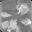people: (16, 4, 29, 16), (9, 18, 18, 30), (20, 18, 32, 26), (2, 20, 10, 30), (1, 11, 12, 18)
